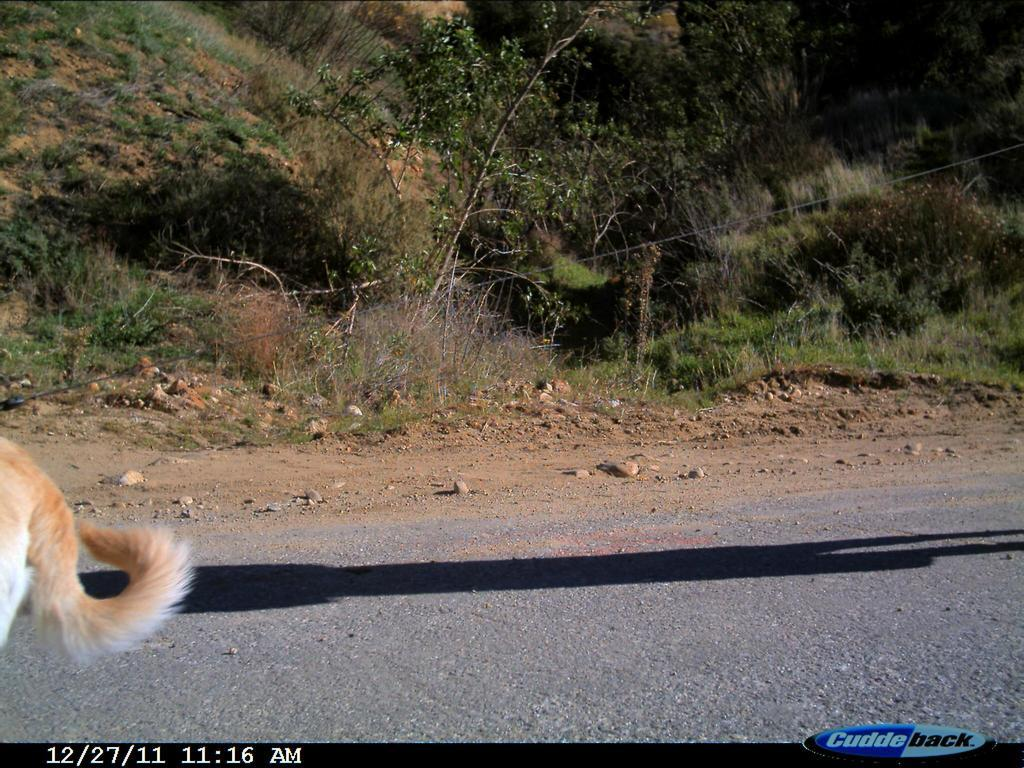dog: (3, 424, 210, 711)
